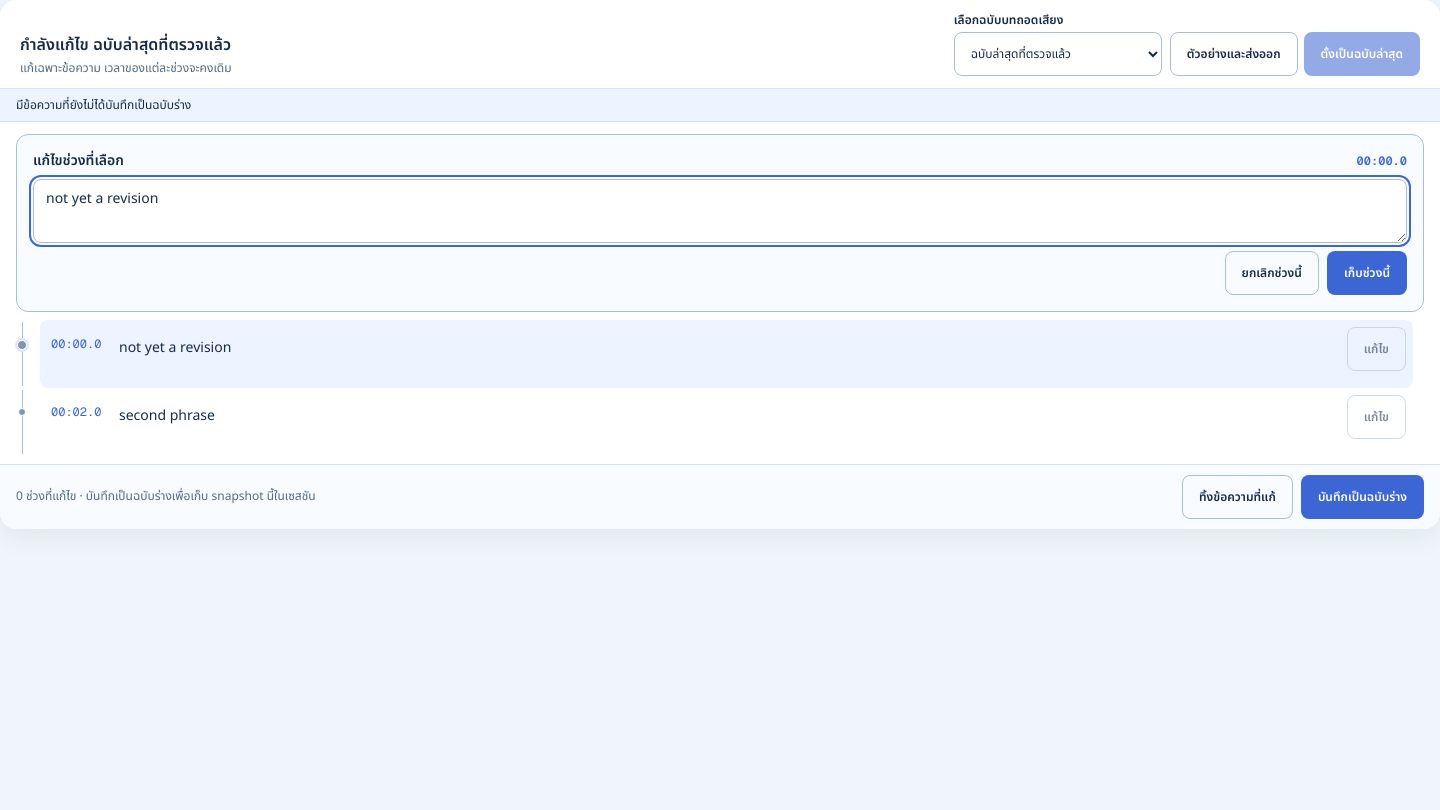
Test case: TranscriptPanel › previews the immutable selected revision while keeping unsaved text out of download
The image size is (1440, 810).
Click the button "ตัวอย่างและส่งออก".
click(1234, 54)  # box [1170,32,1298,76]
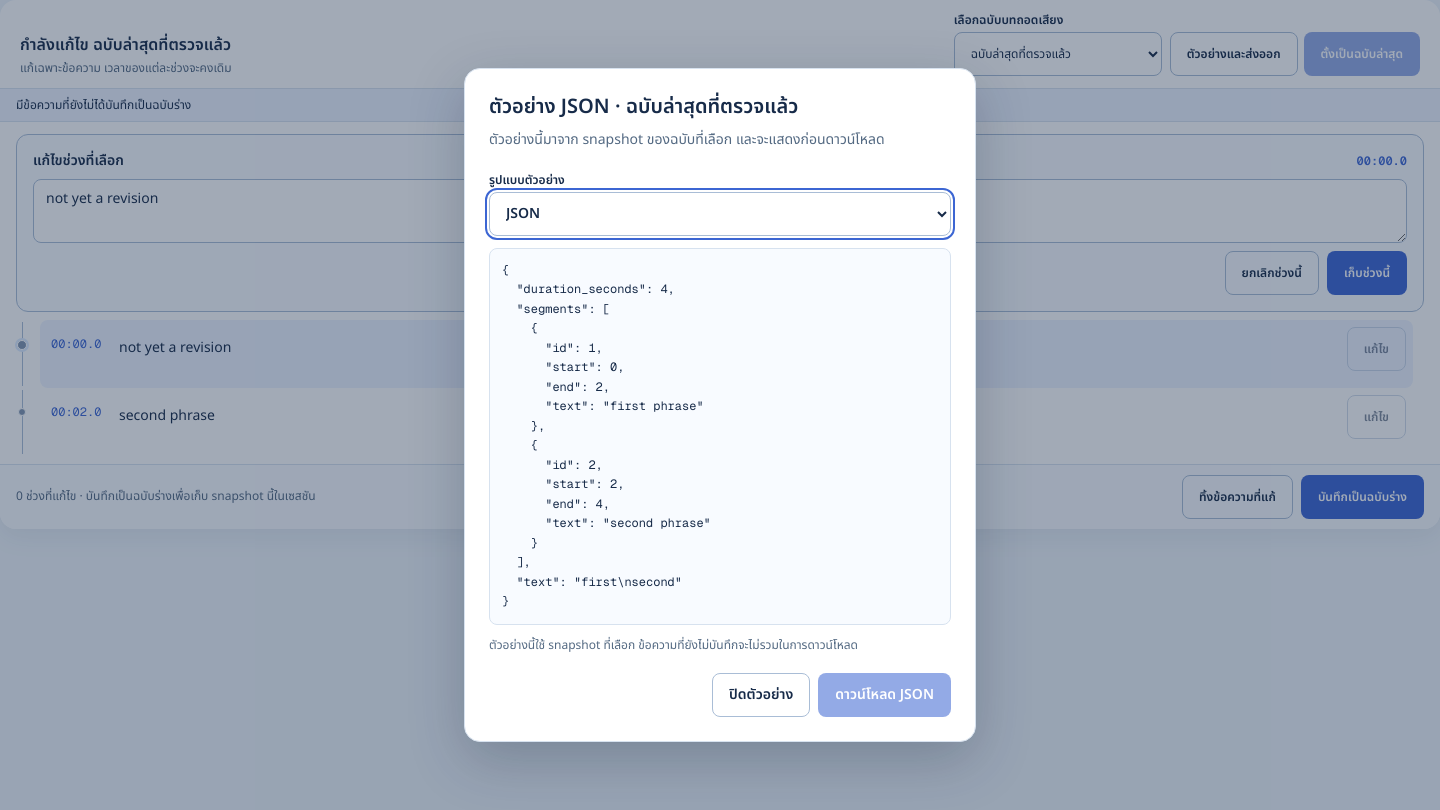
Expected: the element with test id "transcript-export-preview" does not show "not yet a revision"
Now the text with test id "transcript-export-preview" shows "\"text\": \"first\\nsecond\"", box [502,262,711,609]
Now the button "ดาวน์โหลด JSON" is disabled, box [818,673,951,717]
